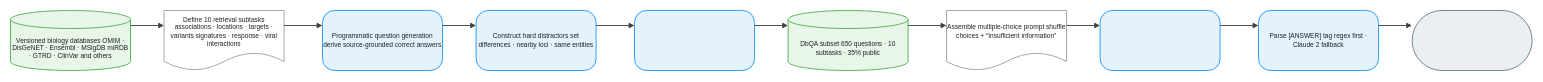
Some shapes in this 1543 by 82 pixel diagram are drawn without their labels. Here are the shapes that lost their labels. From the top down, the centre of each, then its label:
At [694,40]: "Make provenance explicit name database release and evidence level".
At [1159,40]: "Zero-shot chain-of-thought run no tool augmentation in paper baseline".
At [1471,40]: "Accuracy · precision · coverage compare with biology-expert baseline".
